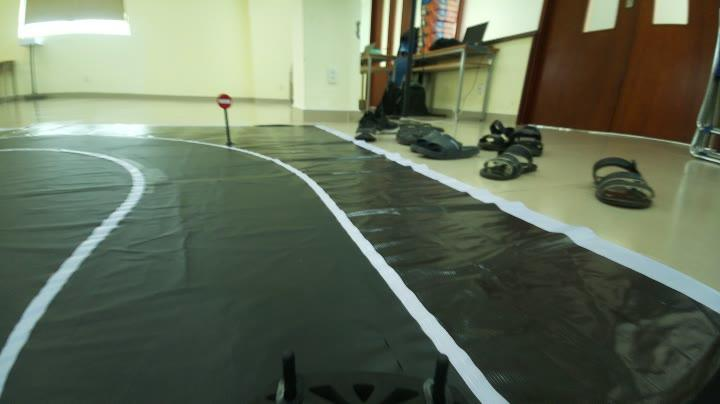no_entry: (207, 88, 238, 113)
